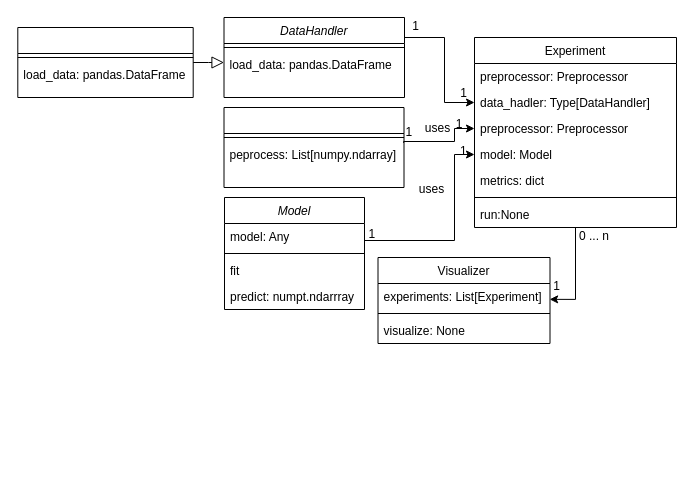
The diagram is 694 pixels wide and 485 high, and some of its shapes have lost their labels. The shapes that lost their labels are listed below. From the top down, each one's box as (x1, y1, x2, y2) in pixels, then its label:
(17, 26, 193, 98): ApiHandler
(223, 106, 404, 188): Preprocessor
